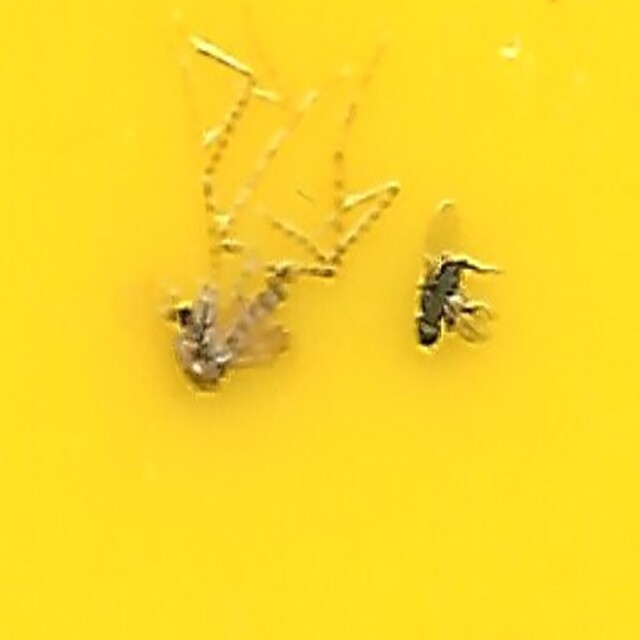Brachycera: (413, 242, 472, 356)
Nematocera: (168, 250, 296, 398)
